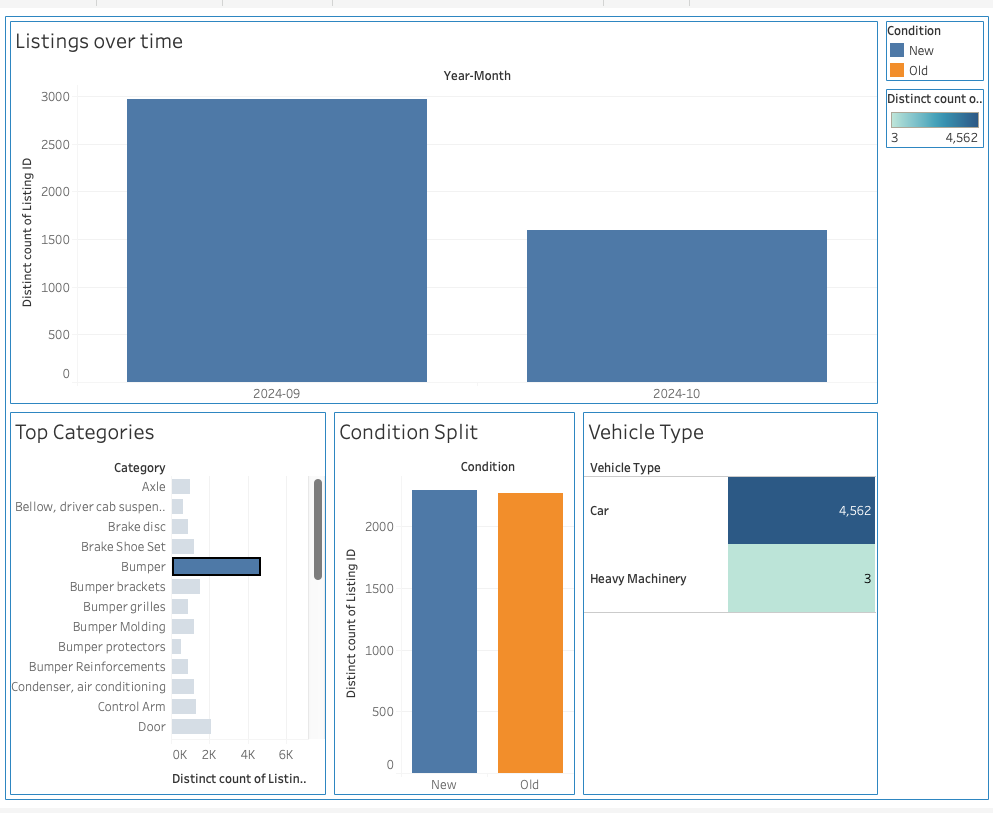

The dashboard page shown, as its layout file describes it:
{"tool":"tableau","page":{"name":"Overview Dashboard","canvas":[1000,800],"ordinal":0},"visuals":[{"type":"worksheet","title":"Listings over time","mark":"Automatic","rows":["Listing ID"],"cols":["Year-Month"],"box":[9,9,876,391]},{"type":"legend","title":"Condition Split","param":"[federated.004d0pt0lj5fsi1cx3dw90ehjb3p].[none:Condition:nk]","box":[885,9,106,68]},{"type":"legend","title":"Vehicle Type","param":"[federated.004d0pt0lj5fsi1cx3dw90ehjb3p].[ctd:Listing ID:qk]","box":[885,77,106,67]},{"type":"worksheet","title":"Top Categories","mark":"Bar","rows":["Category"],"cols":["Listing ID"],"box":[9,400,324.2,391]},{"type":"worksheet","title":"Condition Split","mark":"Automatic","rows":["Listing ID"],"cols":["Condition"],"box":[333.2,400,249,391]},{"type":"worksheet","title":"Vehicle Type","mark":"Square","rows":["Vehicle Type"],"box":[582.3,400,302.7,391]}]}

Visuals, with their boxes in screenshot pixels (x1, y1, x2, y2), scaled from the page's 1000x800 canvas onto the 993x813 screenshot:
"Listings over time" worksheet: box(9, 9, 879, 407)
"Condition Split" legend: box(879, 9, 984, 78)
"Vehicle Type" legend: box(879, 78, 984, 146)
"Top Categories" worksheet (Bar marks): box(9, 407, 331, 804)
"Condition Split" worksheet: box(331, 407, 578, 804)
"Vehicle Type" worksheet (Square marks): box(578, 407, 879, 804)
